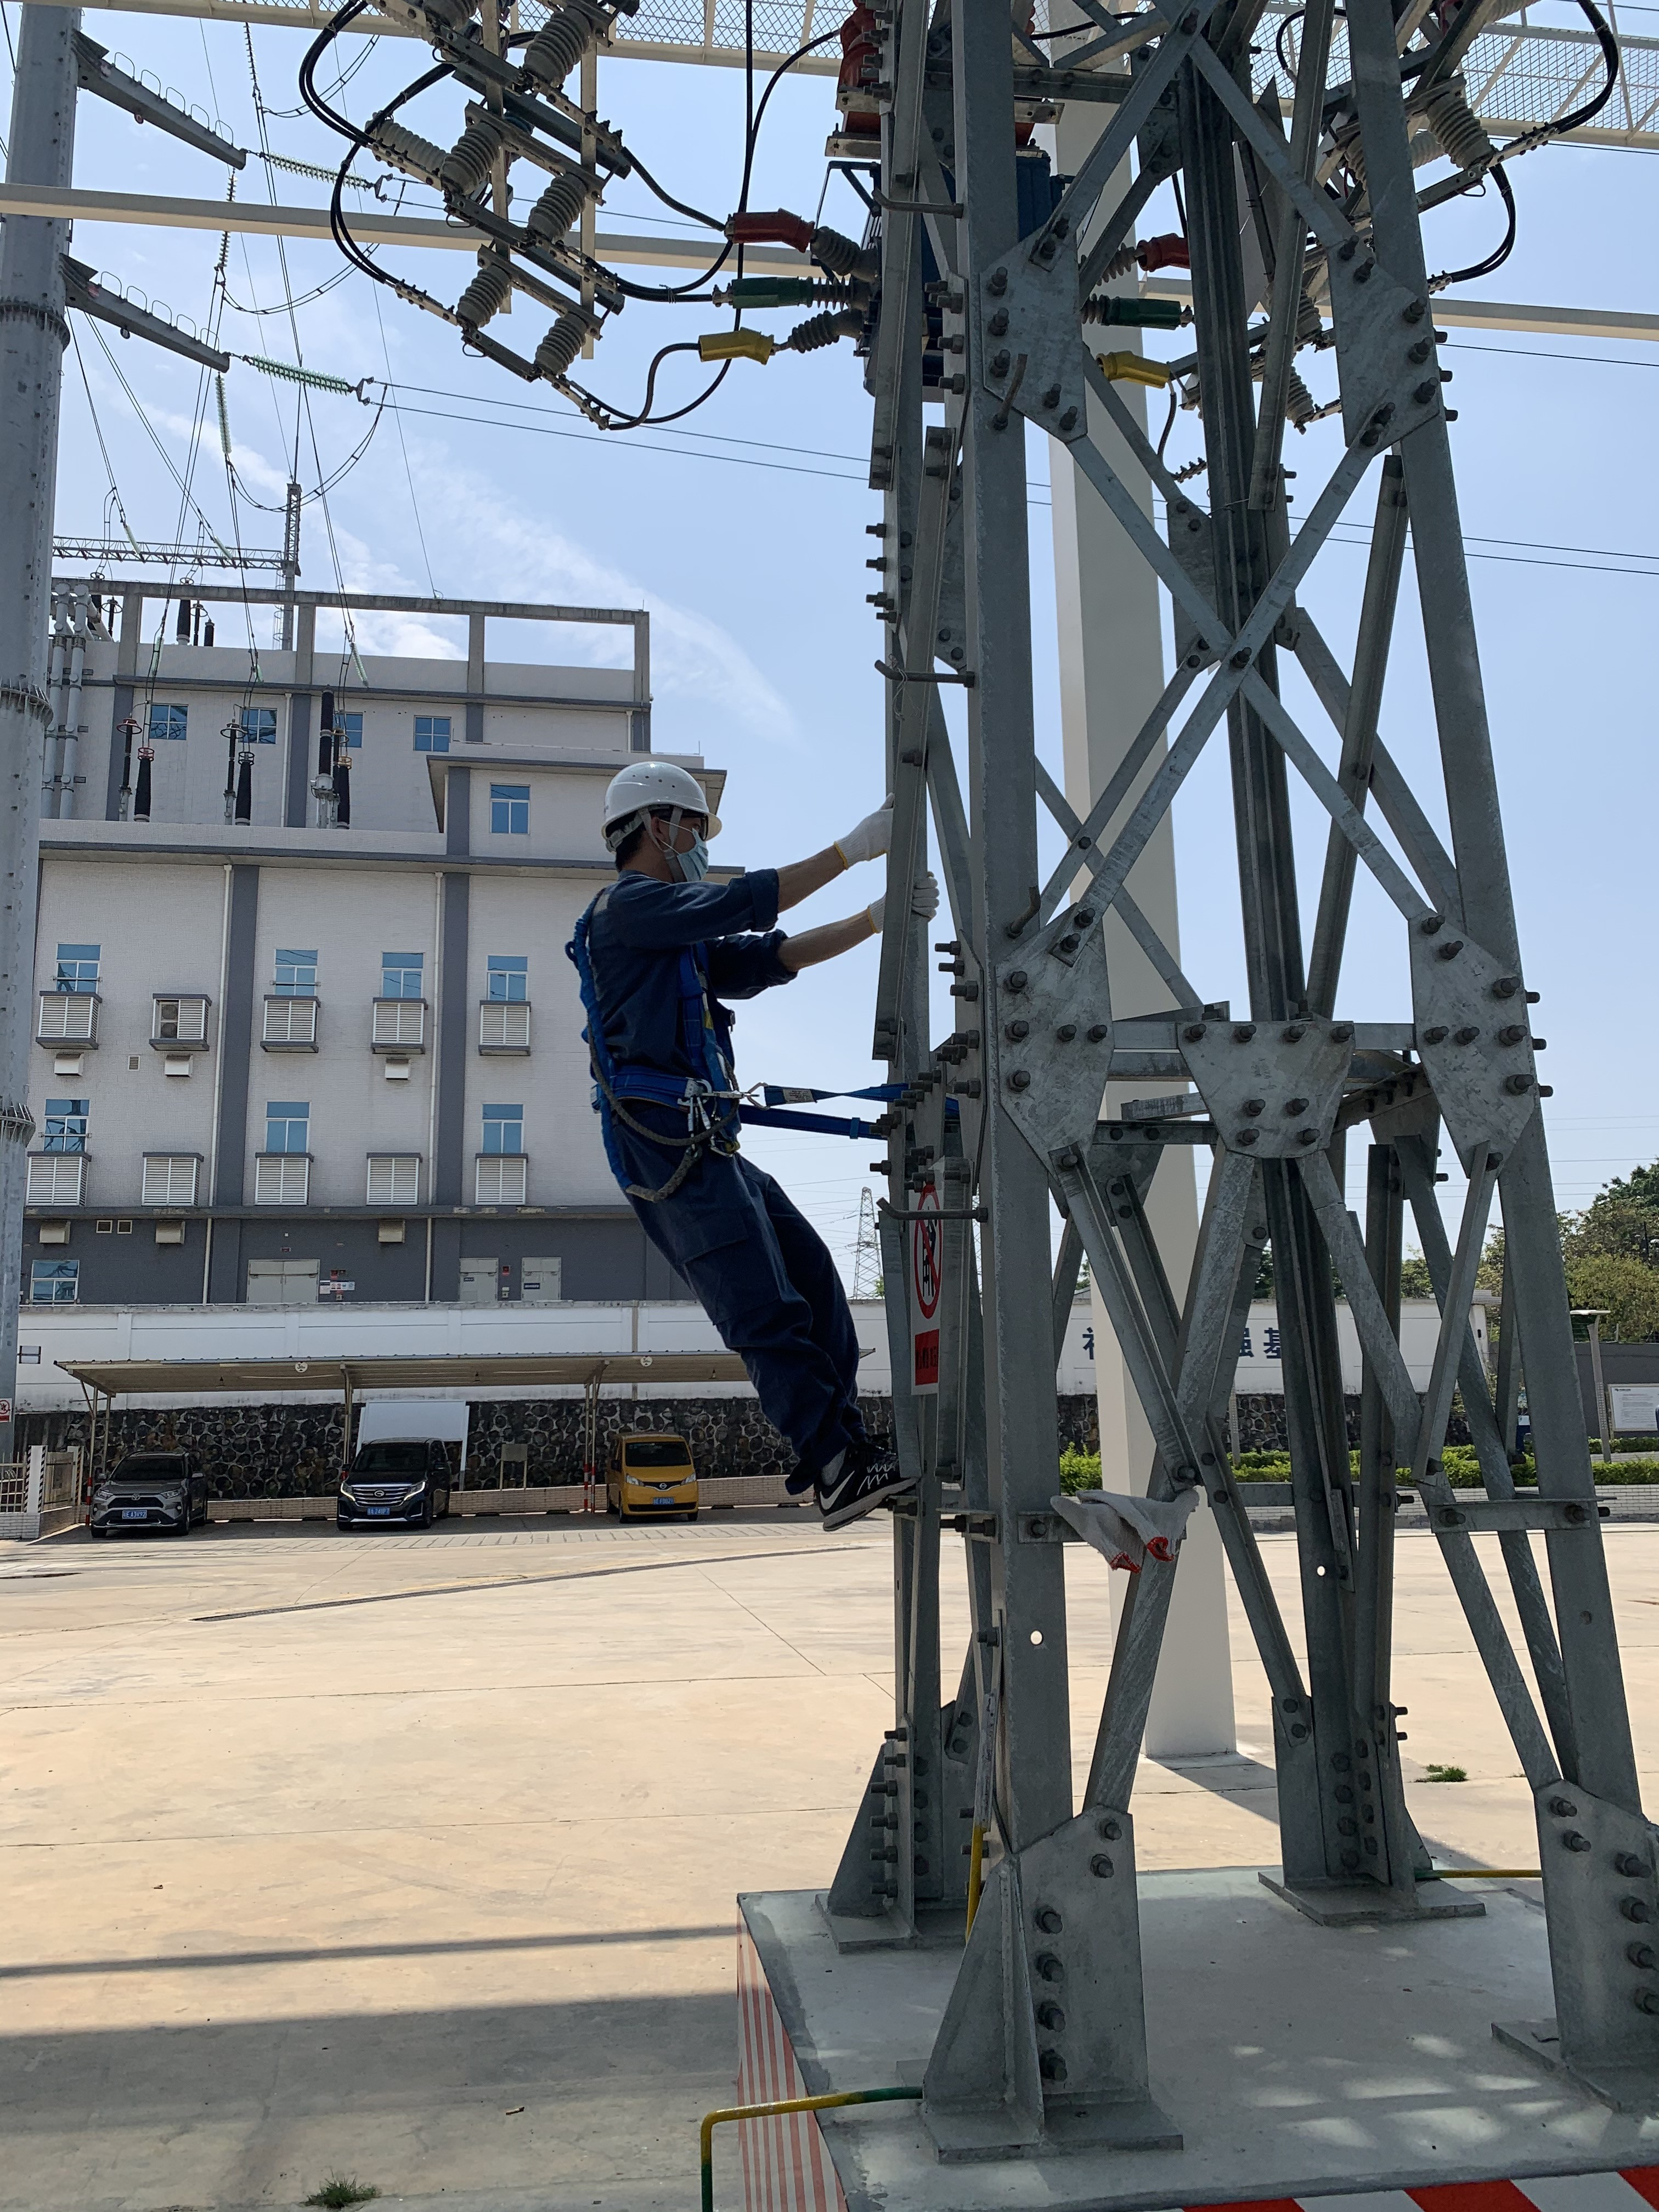downsuit: (613, 1099, 875, 1451)
upsuit: (570, 864, 793, 1080)
wrongtop: (762, 836, 899, 984)
